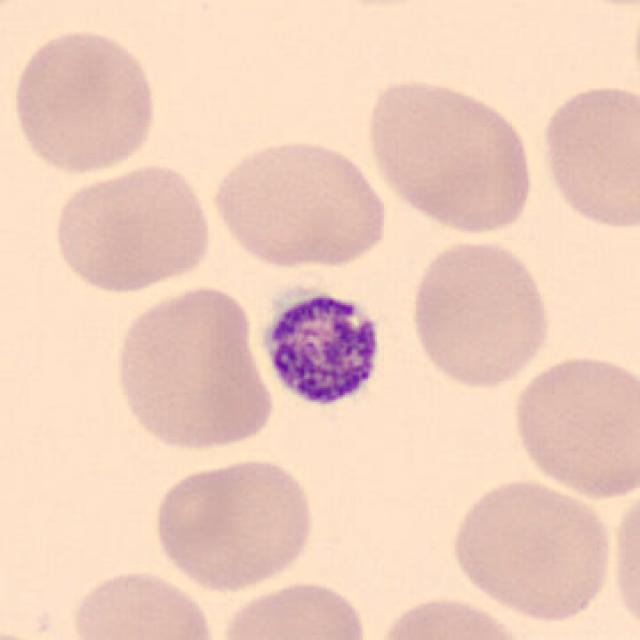Platelets: (256, 278, 389, 418)
RBC: (109, 282, 278, 455), (361, 72, 539, 234), (444, 474, 617, 624), (206, 132, 391, 272), (148, 453, 320, 594), (406, 235, 556, 393), (7, 25, 162, 176), (48, 159, 217, 296), (507, 349, 638, 503), (535, 78, 640, 232), (66, 566, 220, 640), (215, 576, 371, 640), (370, 592, 535, 640), (606, 481, 640, 635), (542, 0, 638, 16)
